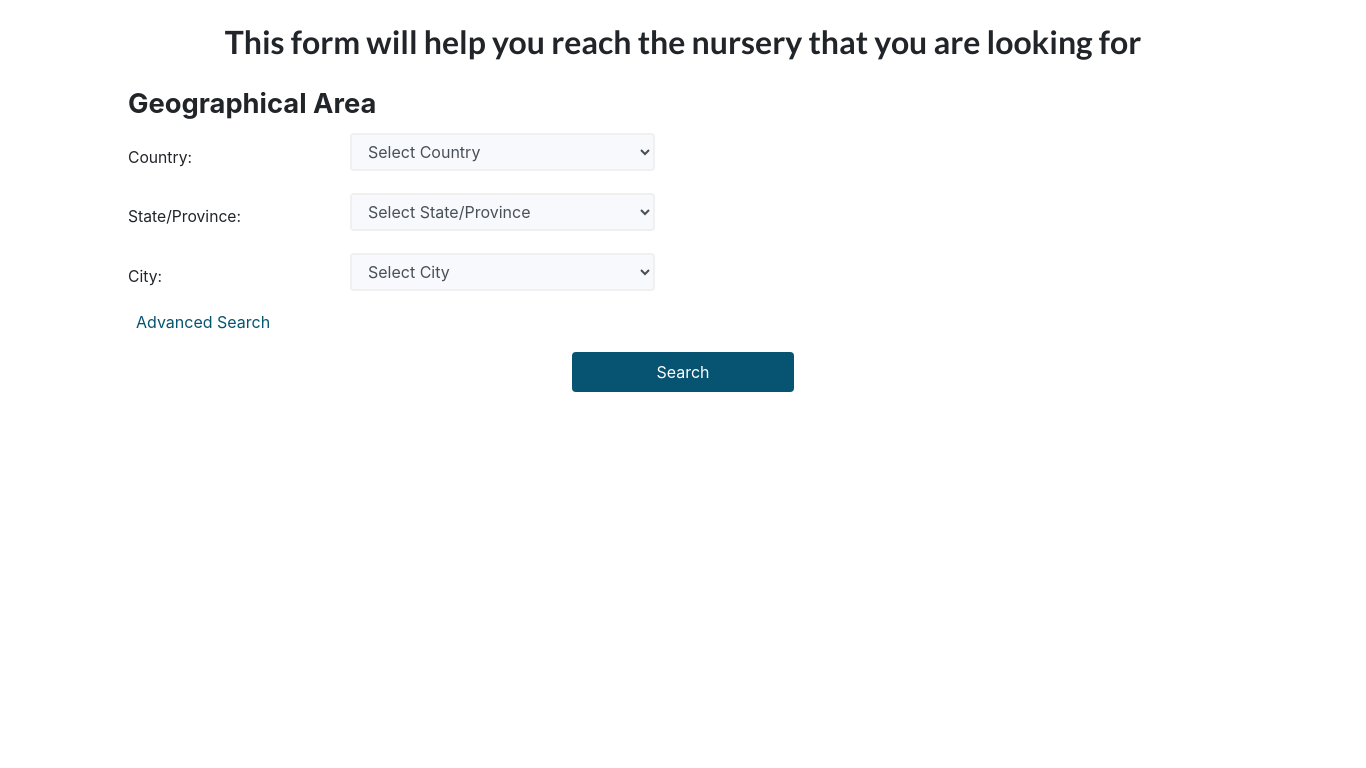
Test case: Checking to see if the advanced search appears or not
Click the button with id "advancedSearchButton": [203, 322] box [128, 307, 278, 337]
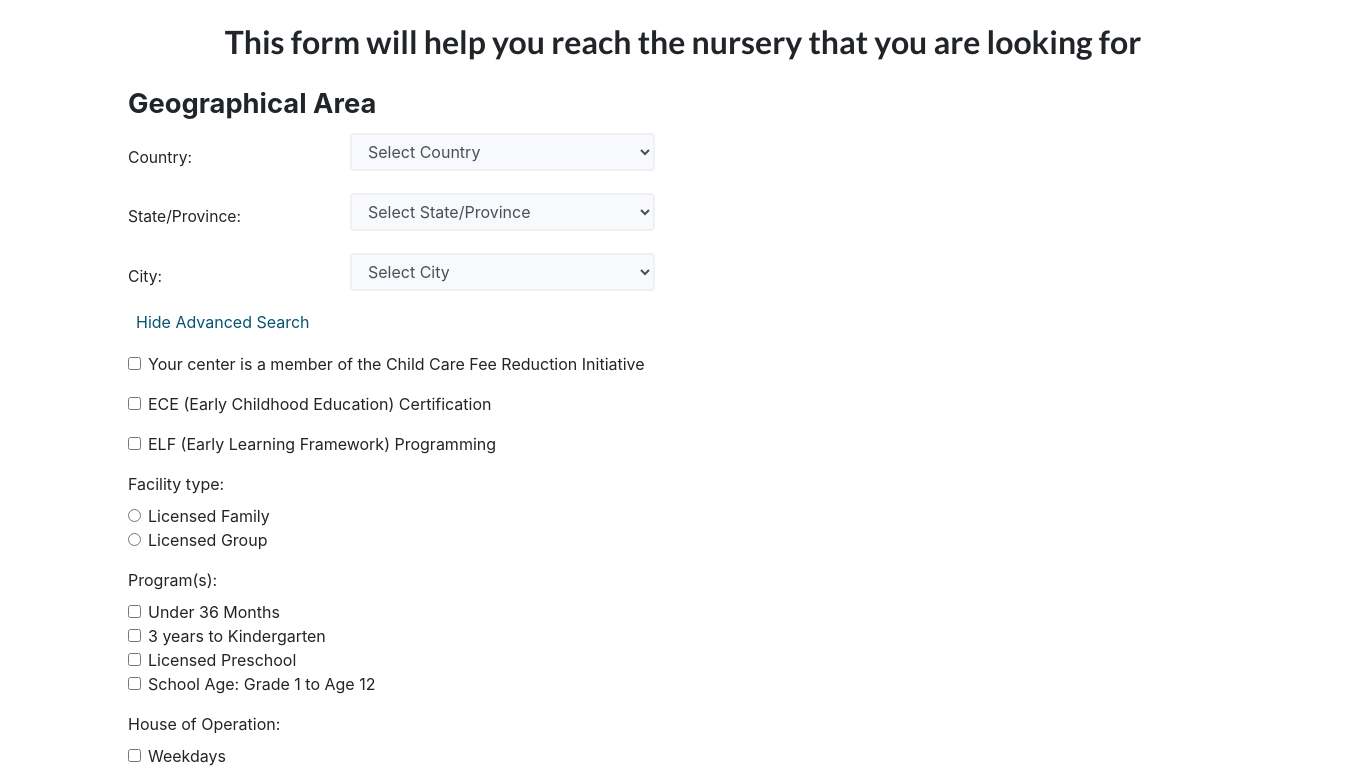
Check: the button with id "advancedSearchButton" reads "Hide Advanced Search", box [128, 307, 318, 337]
